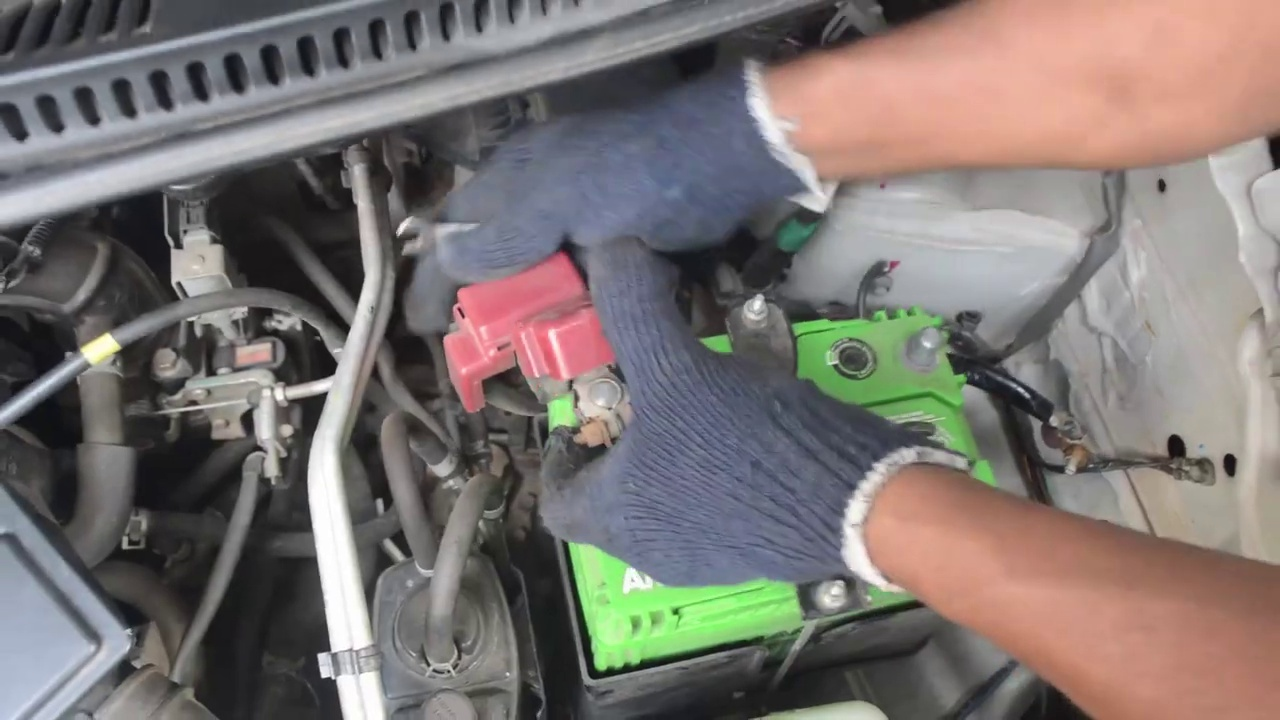battery: (548, 311, 1024, 642)
neg_disconnected: (881, 288, 957, 387)
pos_connected: (459, 266, 639, 452)
pos_touched: (475, 198, 698, 536)
